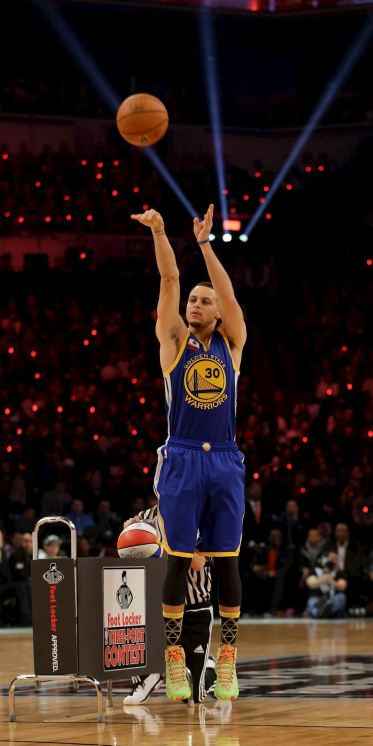ball: (115, 92, 170, 148), (116, 519, 165, 564), (184, 358, 229, 403)
